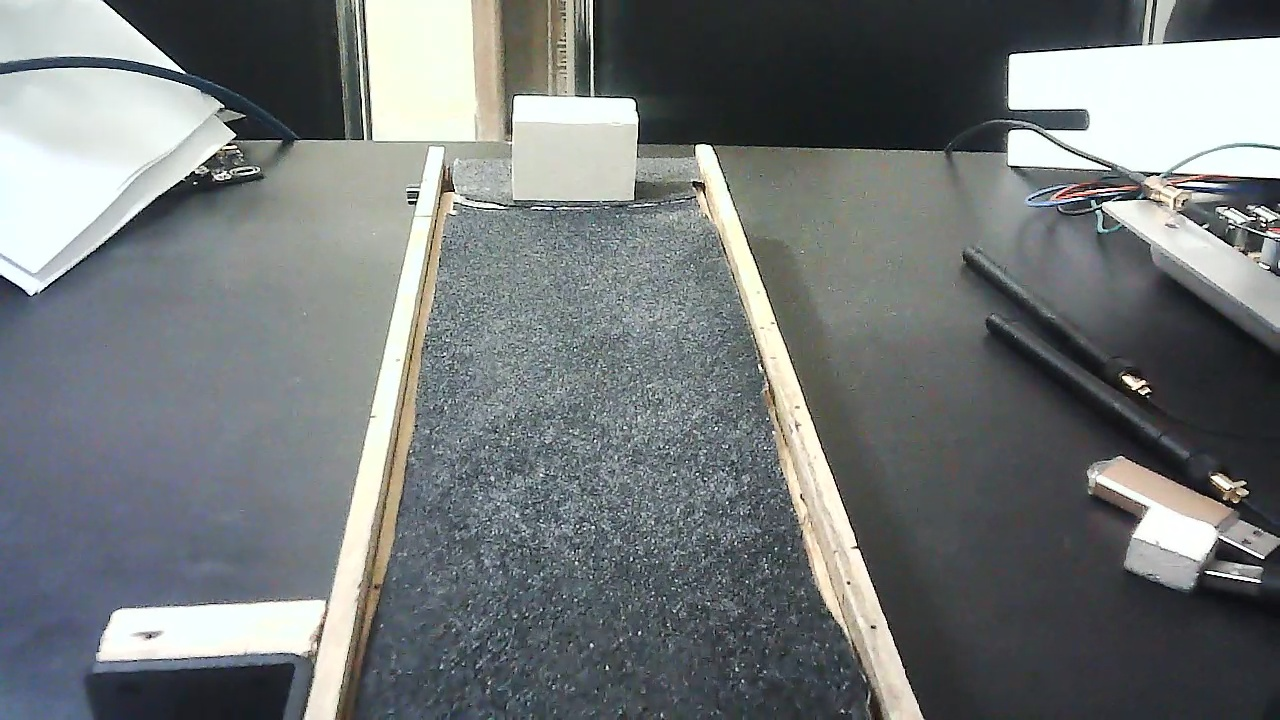BIG: (514, 88, 638, 212)
